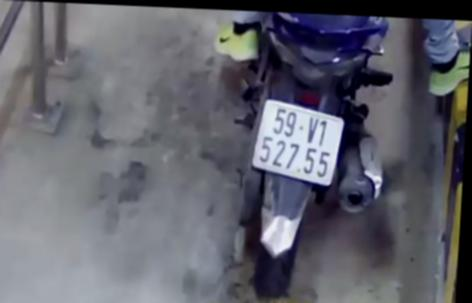License_Plate: (246, 92, 352, 194)
